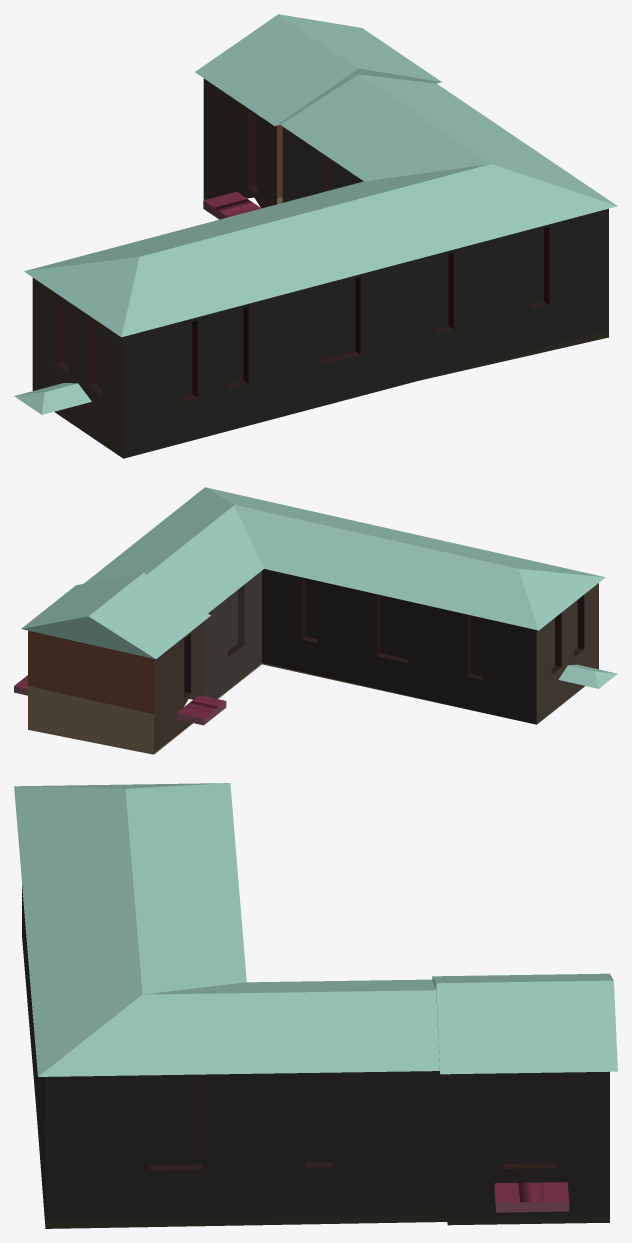
Rendered from marriotts-residence-inn.glb.
3 renders of one model, top to bottom at view 1: azimuth 30°, elevation 25°; view 2: azimuth 150°, elevation 25°; view 3: azimuth 270°, elevation 25°, orthographic. The views are drawn at different scales.
Visible parts, largest first — view 1: LOD0; view 2: LOD0; view 3: LOD0.
Part boxes in pixels (x1=…): LOD0: x1=14, y1=14, x2=617, y2=458; LOD0: x1=14, y1=487, x2=617, y2=754; LOD0: x1=14, y1=783, x2=617, y2=1228.
Size of what is drawn, in the model's own units: 61.88 by 17.17 by 47.61.
2 materials, 2 textured.
